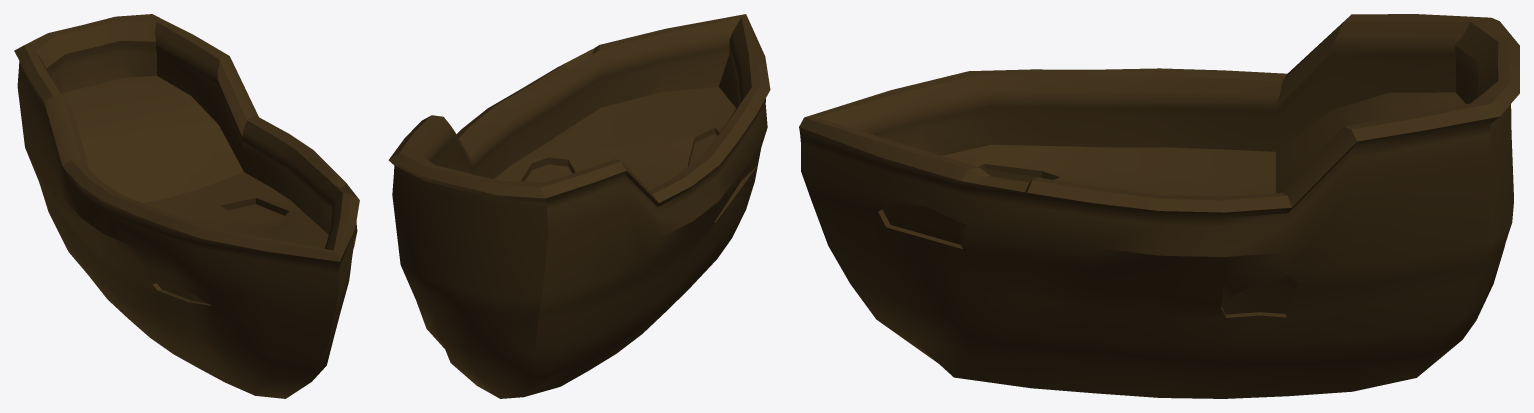
3 renders of one model, left to right at view 1: azimuth 30°, elevation 25°; view 2: azimuth 150°, elevation 25°; view 3: azimuth 270°, elevation 25°, orthographic. The views are drawn at different scales.
Visible parts, largest first — view 1: barco75; view 2: barco75; view 3: barco75.
Boxes of the visible parts, x1,y1,x2,y2 form: barco75: (14,14,359,398); barco75: (388,14,770,398); barco75: (799,14,1519,398).
Size of the model in its own units: 2.22 by 2.45 by 4.8.
